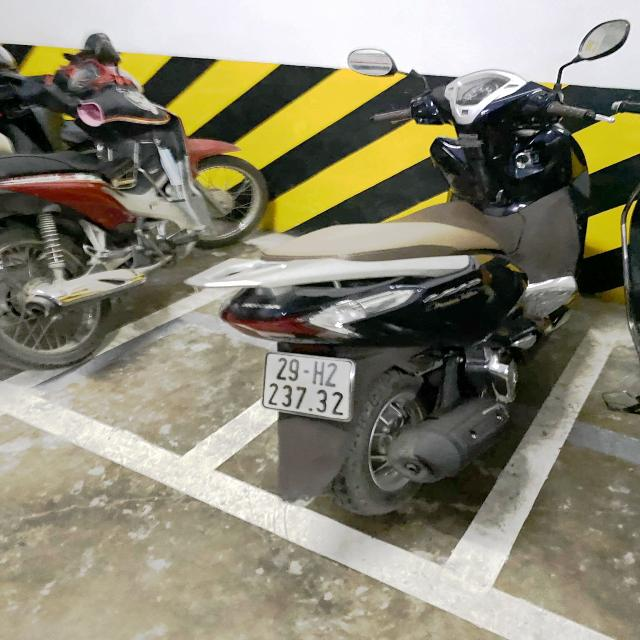license_plate: (262, 349, 355, 421)
